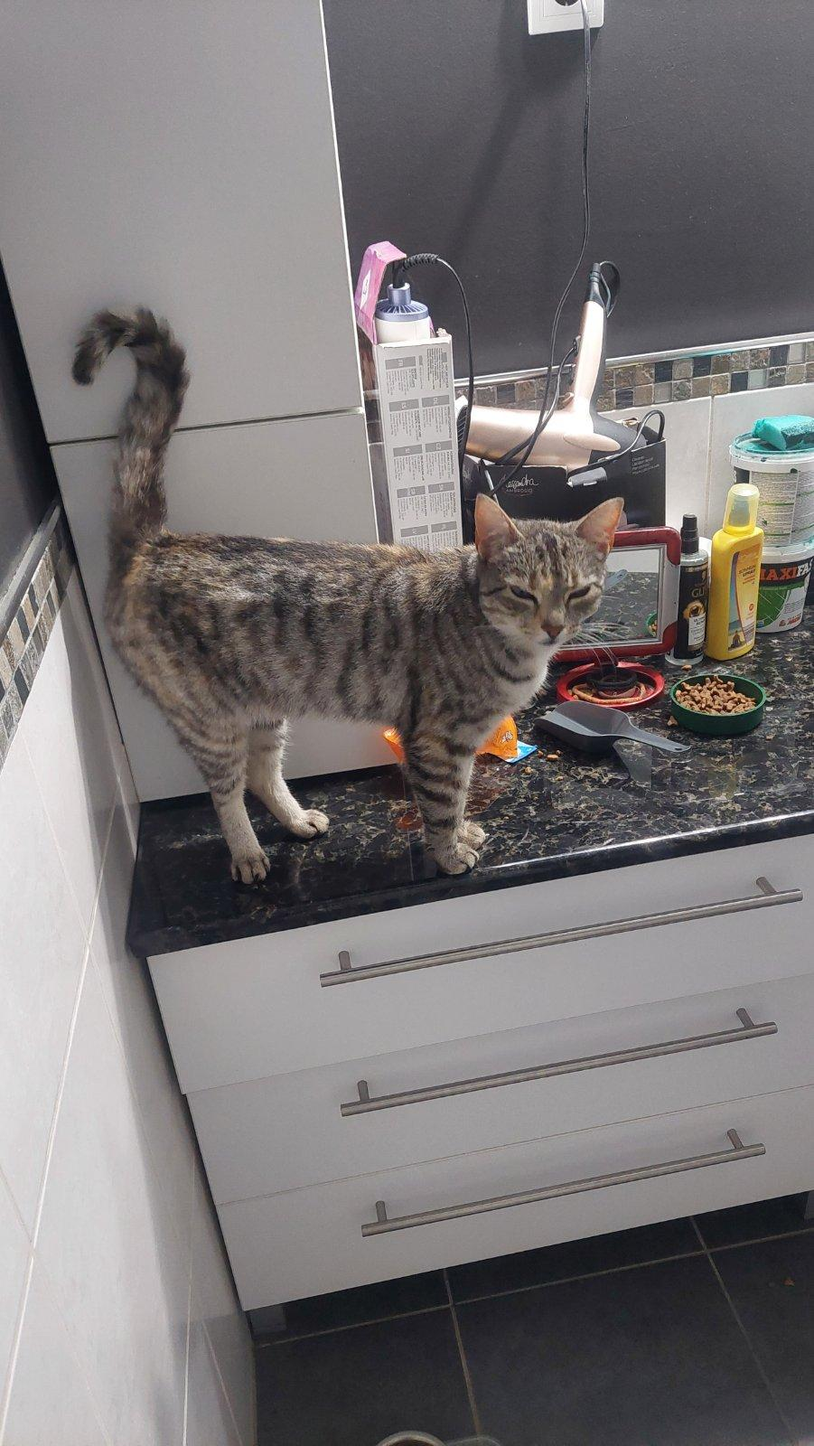macka: (70, 306, 630, 877)
